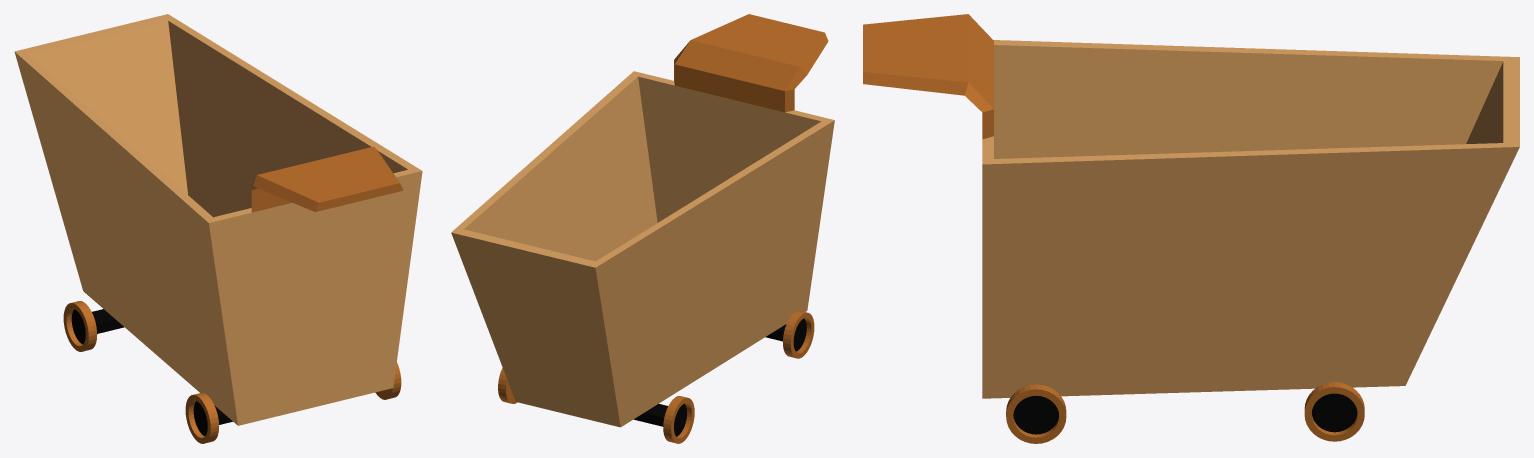
The model's file is shoppingCart.glb.
3 views of the same model, side by side, from view 1: azimuth 30°, elevation 25°; view 2: azimuth 150°, elevation 25°; view 3: azimuth 270°, elevation 25° (orthographic). The views are drawn at different scales.
Visible parts, largest first — view 1: Shopping_cart.001; view 2: Shopping_cart.001; view 3: Shopping_cart.001.
Boxes of the visible parts, <box> form: Shopping_cart.001: <box>14,14,422,443</box>; Shopping_cart.001: <box>451,14,834,443</box>; Shopping_cart.001: <box>863,14,1519,443</box>.
Bounding box in the file's own units: 1.02 × 1.28 × 2.27.
